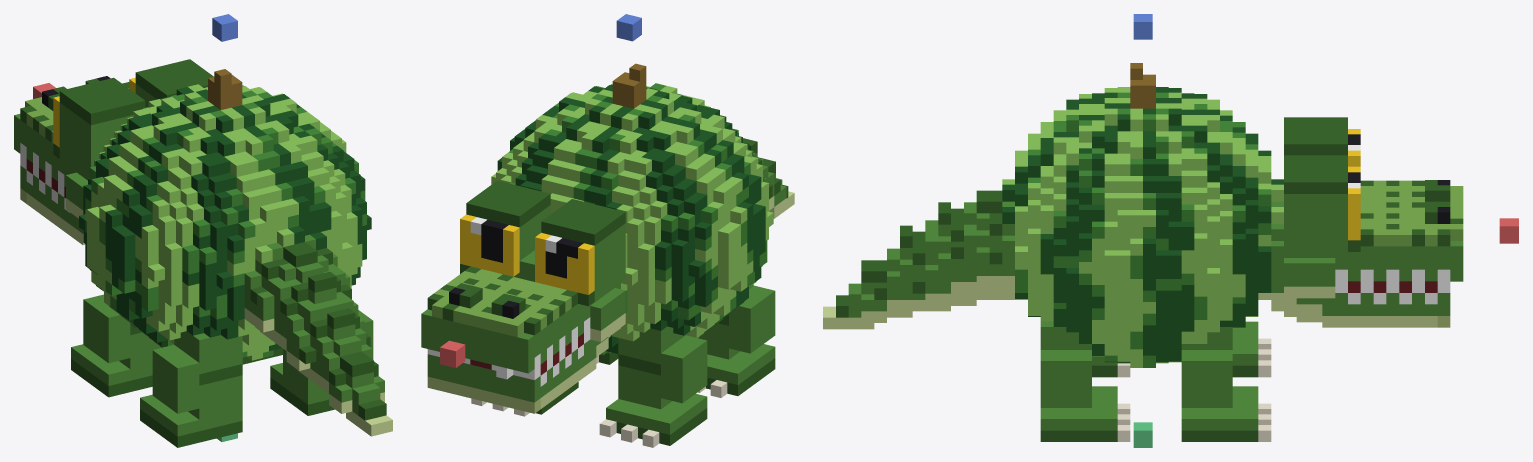
Rendered from GlorboFruttodrillo.glb.
3 views of the same model, side by side, from view 1: azimuth 30°, elevation 25°; view 2: azimuth 150°, elevation 25°; view 3: azimuth 270°, elevation 25° (orthographic). The views are drawn at different scales.
Parts seen in each view (by area): view 1: GlorboFruttodrillo_Body, GlorboFruttodrillo_Tail5, GlorboFruttodrillo_Head6, GlorboFruttodrillo_Leg4, GlorboFruttodrillo_Leg2, GlorboFruttodrillo_Leg3, GlorboFruttodrillo_Top; view 2: GlorboFruttodrillo_Body, GlorboFruttodrillo_Head6, GlorboFruttodrillo_Leg2, GlorboFruttodrillo_Leg4, GlorboFruttodrillo_Tail5, GlorboFruttodrillo_Top, GlorboFruttodrillo_Front, GlorboFruttodrillo_Leg1; view 3: GlorboFruttodrillo_Body, GlorboFruttodrillo_Head6, GlorboFruttodrillo_Tail5, GlorboFruttodrillo_Leg3, GlorboFruttodrillo_Leg1, GlorboFruttodrillo_Leg2, GlorboFruttodrillo_Leg4.
Part boxes in pixels (x1=…): GlorboFruttodrillo_Body: x1=79, y1=69, x2=371, y2=360; GlorboFruttodrillo_Tail5: x1=244, y1=234, x2=392, y2=436; GlorboFruttodrillo_Head6: x1=14, y1=59, x2=213, y2=245; GlorboFruttodrillo_Leg4: x1=140, y1=331, x2=242, y2=447; GlorboFruttodrillo_Leg2: x1=71, y1=294, x2=161, y2=397; GlorboFruttodrillo_Leg3: x1=270, y1=310, x2=373, y2=415; GlorboFruttodrillo_Top: x1=212, y1=14, x2=237, y2=41; GlorboFruttodrillo_Body: x1=491, y1=63, x2=773, y2=355; GlorboFruttodrillo_Head6: x1=421, y1=180, x2=625, y2=413; GlorboFruttodrillo_Leg2: x1=599, y1=326, x2=707, y2=447; GlorboFruttodrillo_Leg4: x1=698, y1=284, x2=775, y2=397; GlorboFruttodrillo_Tail5: x1=738, y1=133, x2=794, y2=218; GlorboFruttodrillo_Top: x1=616, y1=14, x2=641, y2=41; GlorboFruttodrillo_Front: x1=440, y1=340, x2=465, y2=367; GlorboFruttodrillo_Leg1: x1=471, y1=382, x2=578, y2=416; GlorboFruttodrillo_Body: x1=1002, y1=63, x2=1283, y2=367; GlorboFruttodrillo_Head6: x1=1258, y1=117, x2=1463, y2=327; GlorboFruttodrillo_Tail5: x1=823, y1=190, x2=1027, y2=329; GlorboFruttodrillo_Leg3: x1=1040, y1=321, x2=1130, y2=441; GlorboFruttodrillo_Leg1: x1=1181, y1=327, x2=1271, y2=441; GlorboFruttodrillo_Leg2: x1=1232, y1=321, x2=1271, y2=377; GlorboFruttodrillo_Leg4: x1=1092, y1=357, x2=1130, y2=377.
Size of the model in its own units: 3.67 by 6.12 by 9.06.
1 material, 1 textured.
